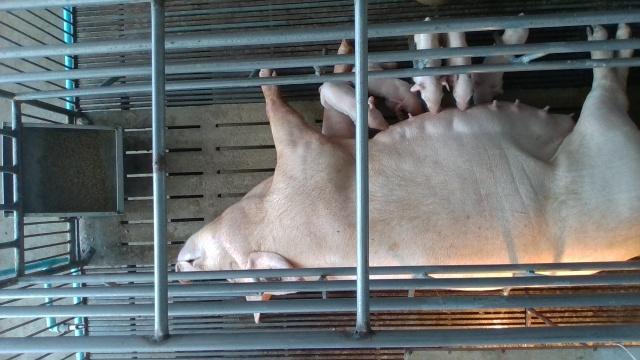piglet: (472, 12, 529, 105), (352, 63, 424, 121), (410, 17, 451, 114), (320, 81, 389, 130), (443, 31, 474, 112)
sow-sleep-lactate: (176, 23, 640, 323)
